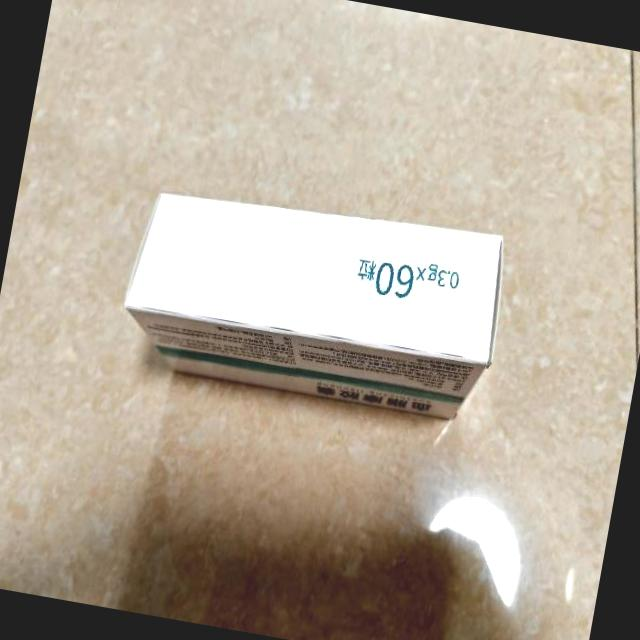box: (114, 172, 512, 424)
